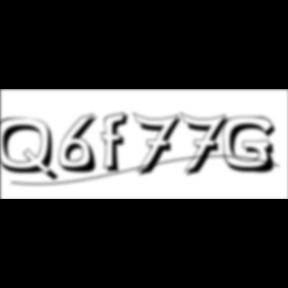6: (58, 112, 104, 176)
7: (132, 111, 188, 179), (180, 111, 234, 179)
G: (224, 116, 282, 176)
Q: (0, 117, 62, 184)
f: (101, 111, 134, 175)
